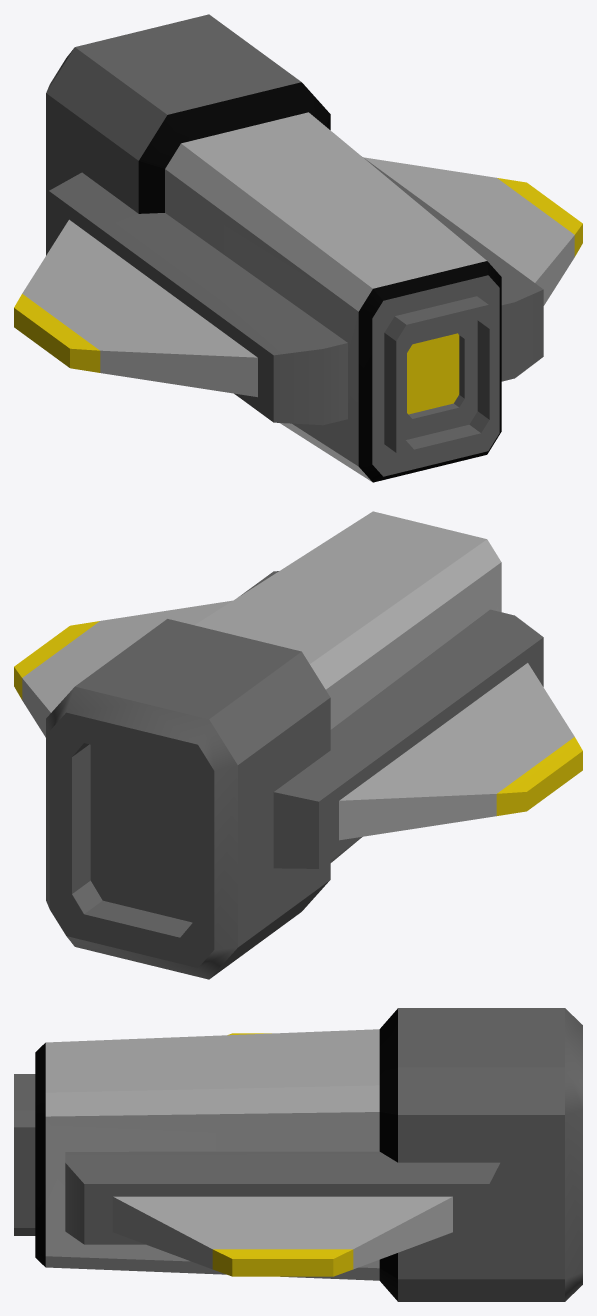
File: Ppj-Item-basic.fbx
3 views of the same model, one above another, from view 1: azimuth 30°, elevation 25°; view 2: azimuth 150°, elevation 25°; view 3: azimuth 270°, elevation 25° (orthographic). The views are drawn at different scales.
Visible parts, largest first — view 1: koki1; view 2: koki1; view 3: koki1.
Part boxes in pixels (x1,y1,x2,y2): koki1: (14,14,582,482); koki1: (14,511,582,979); koki1: (14,1008,582,1301).
Size of the model in its own units: 117 by 56.67 by 125.
